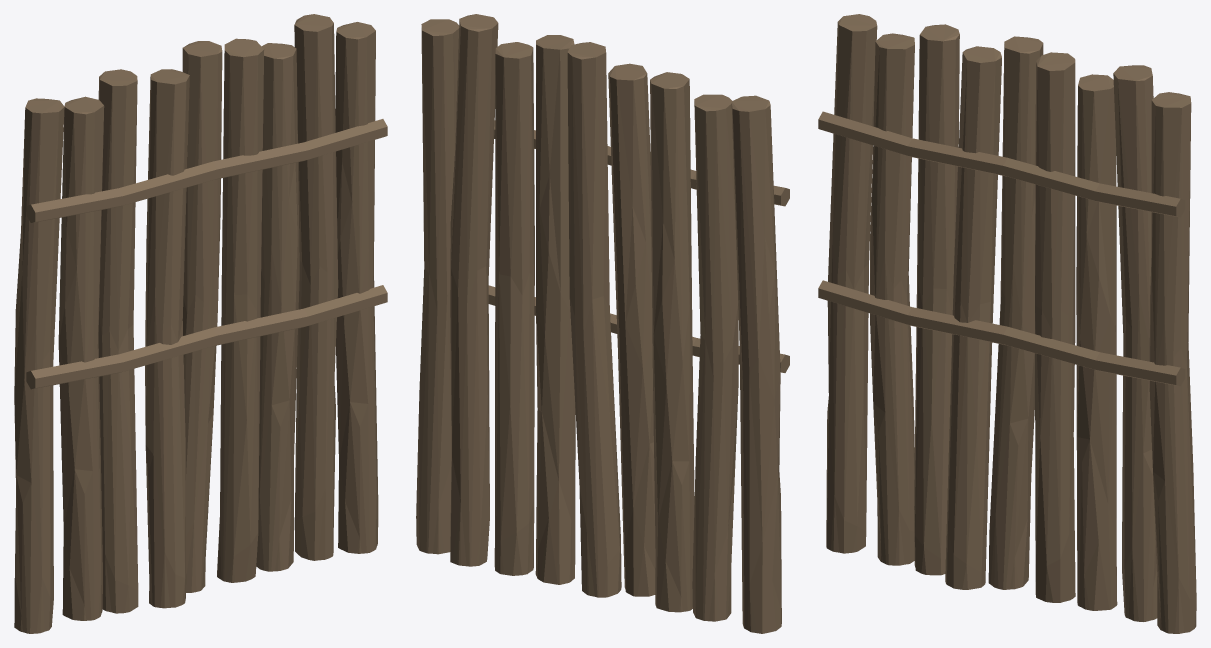
File: fence_c_1m_01.FBX
3 renders of one model, left to right at view 1: azimuth 30°, elevation 25°; view 2: azimuth 150°, elevation 25°; view 3: azimuth 330°, elevation 25°, orthographic.
Visible parts, largest first — view 1: fence_c_1m_01; view 2: fence_c_1m_01; view 3: fence_c_1m_01.
Part boxes in pixels (<box>): fence_c_1m_01: <box>14,14,387,633</box>; fence_c_1m_01: <box>416,14,789,633</box>; fence_c_1m_01: <box>818,14,1196,633</box>.
Size of the model in its own units: 1.03 by 1.47 by 0.1676.
